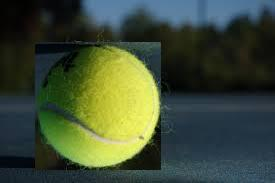tennis ball: (35, 42, 161, 170)
